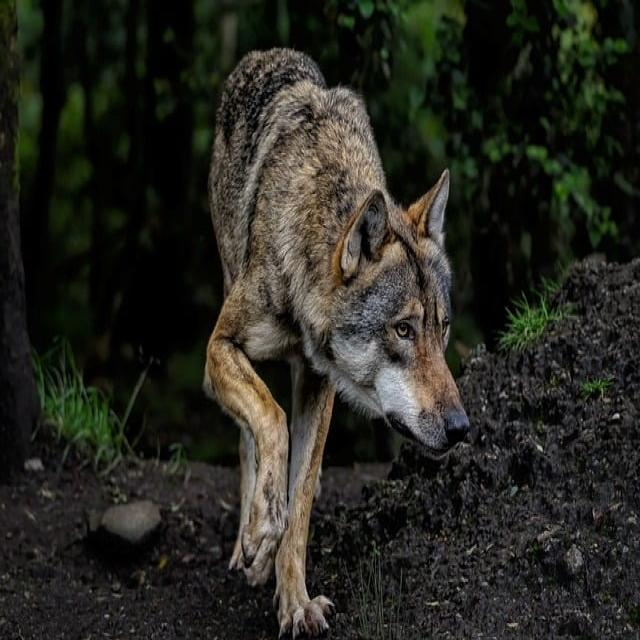Carnivorous: (202, 47, 471, 640)
